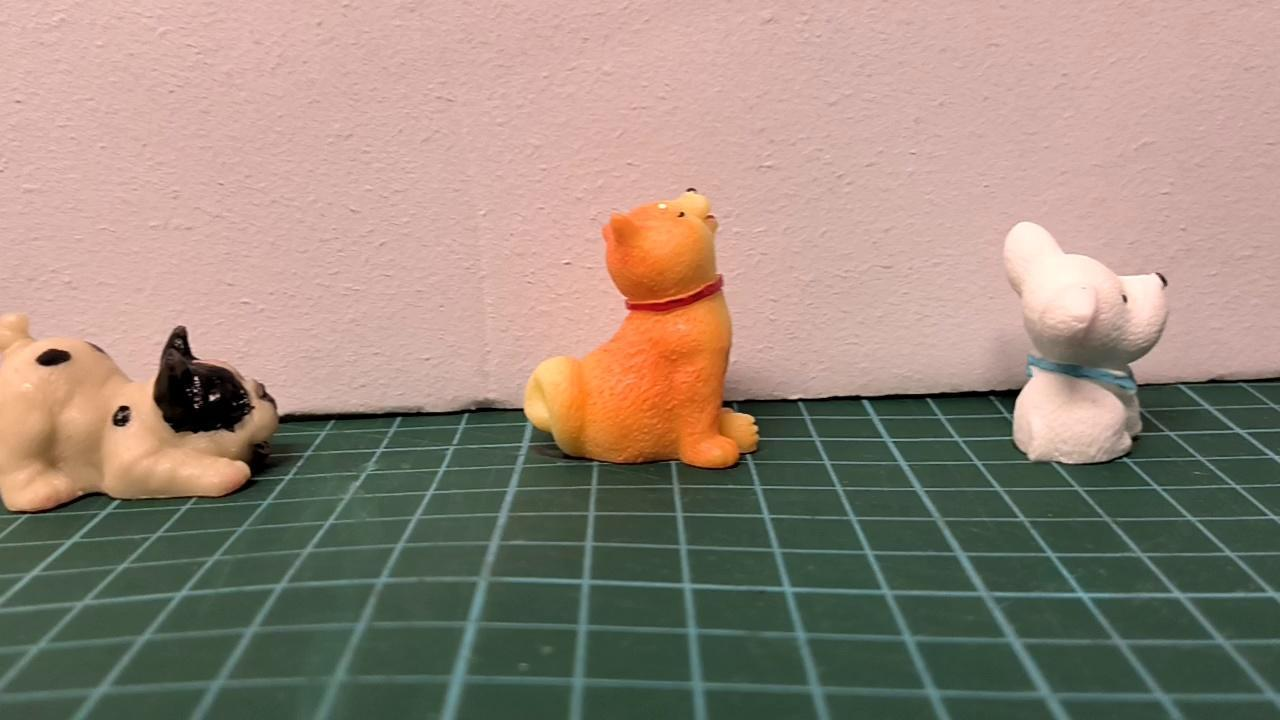pet: (523, 185, 759, 468), (0, 315, 280, 516), (1003, 221, 1169, 463)
